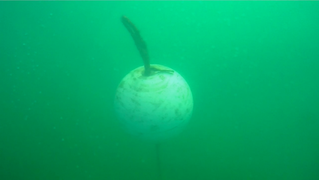buoy: (112, 63, 193, 144)
